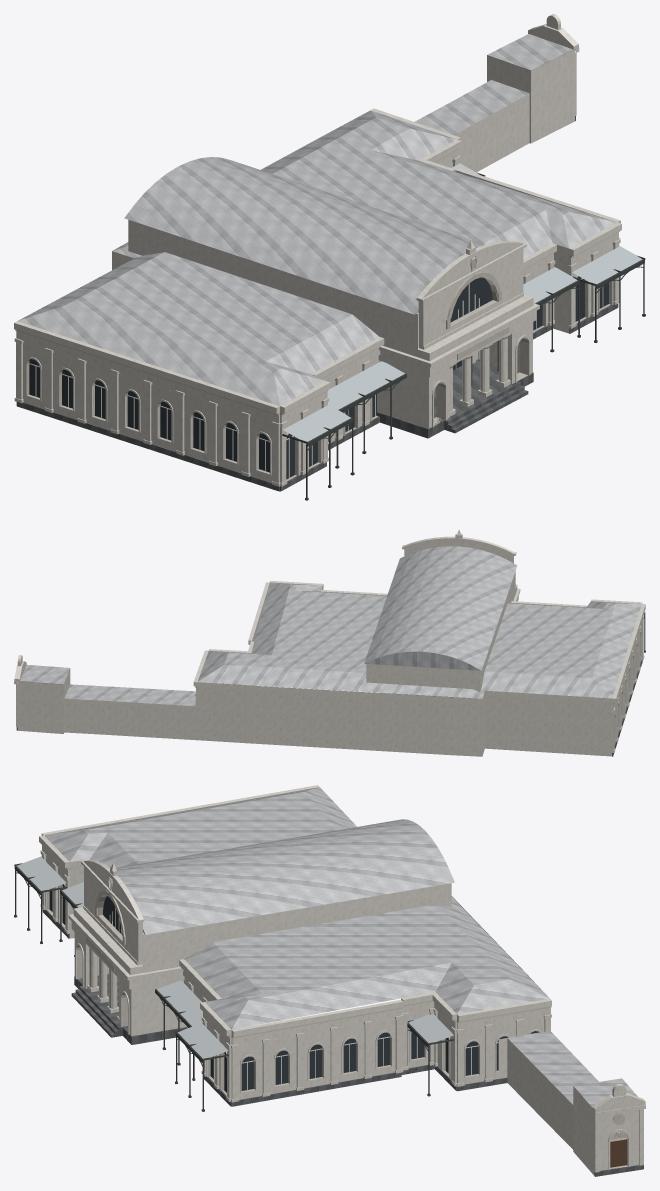
3 renders of one model, top to bottom at view 1: azimuth 30°, elevation 25°; view 2: azimuth 150°, elevation 25°; view 3: azimuth 270°, elevation 25°, orthographic. The views are drawn at different scales.
Parts seen in each view (by area): view 1: bldg_231220414_landmark; view 2: bldg_231220414_landmark; view 3: bldg_231220414_landmark.
Boxes of the visible parts, x1=… form: bldg_231220414_landmark: x1=14, y1=14, x2=645, y2=500; bldg_231220414_landmark: x1=14, y1=529, x2=645, y2=756; bldg_231220414_landmark: x1=14, y1=785, x2=645, y2=1176.
Bounding box in the file's own units: 72.56 × 16.09 × 61.2.
10 materials, 4 textured.
